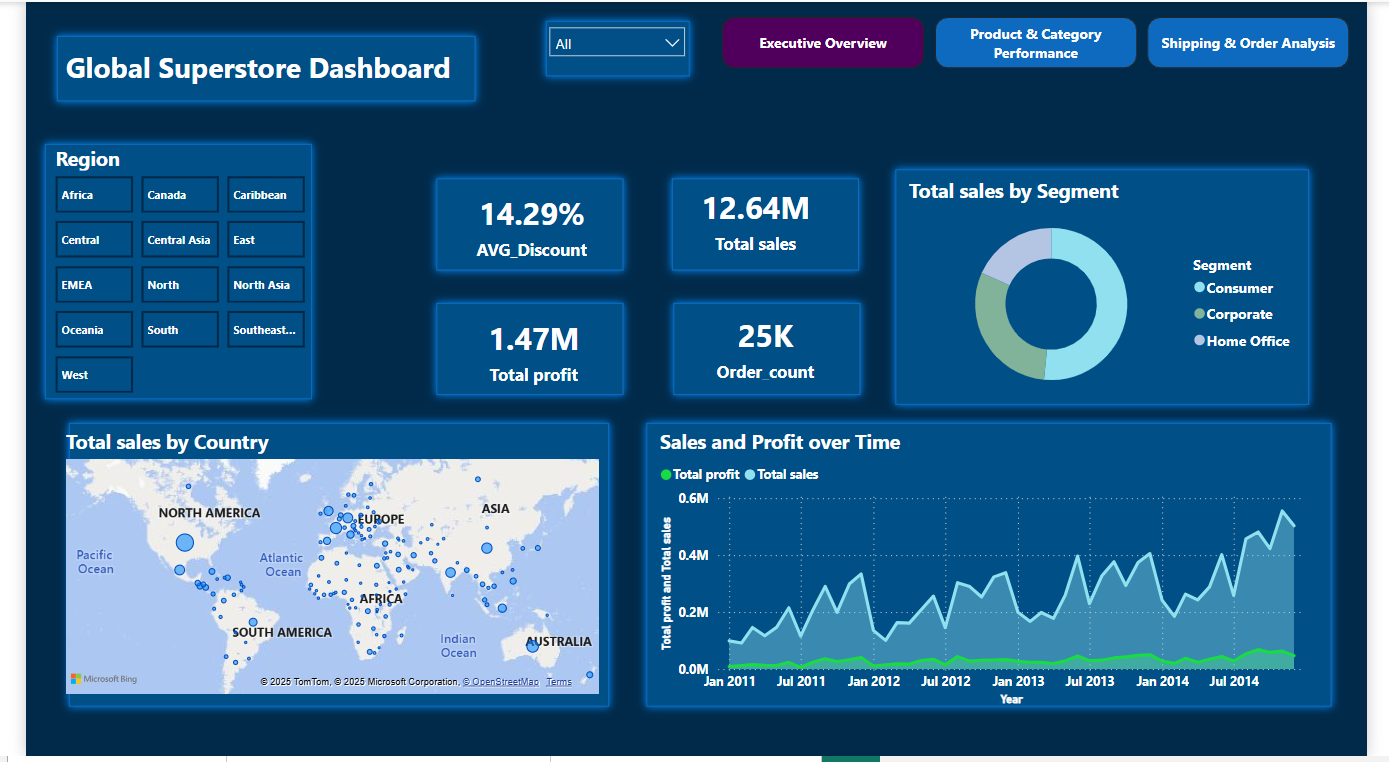

Layout of this report page (visuals, bound fields, positions):
{"tool":"powerbi","page":{"name":"Executive Overview","canvas":[1280,720],"ordinal":0},"visuals":[{"type":"shape","box":[478.8,0,173.4,89.1],"z":0},{"type":"shape","box":[11.1,14.3,435.8,98.6],"z":1000},{"type":"shape","box":[0,117.7,291.1,279.9],"z":2000},{"type":"shape","box":[373.8,268.8,214.7,124.1],"z":3000},{"type":"shape","box":[599.7,268.8,214.7,124.1],"z":4000},{"type":"shape","box":[373.8,151.1,214.7,124.1],"z":5000},{"type":"shape","box":[598.1,151.1,214.7,124.1],"z":6000},{"type":"shape","box":[812.8,141.6,431.1,260.9],"z":7000},{"type":"shape","box":[574.2,383.3,690.3,307],"z":8000},{"type":"pageNavigator","box":[665.2,13.9,599.6,49.6],"z":9000},{"type":"areaChart","title":"Sales and Profit over Time","fields":{"Category":["Global_Superstore2.Order Date.Variation.Date Hierarchy.Year","Global_Superstore2.Order Date.Variation.Date Hierarchy.Quarter","Global_Superstore2.Order Date.Variation.Date Hierarchy.Month","Global_Superstore2.Order Date.Variation.Date Hierarchy.Day"],"Y":["Global_Superstore2.Total profit","Global_Superstore2.Total sales"]},"box":[599.7,407.2,639.4,268.8],"z":10000},{"type":"shape","box":[22.3,383.3,551.9,307],"z":11000},{"type":"map","fields":{"Size":["Global_Superstore2.Total sales"],"Category":["Global_Superstore2.Country"]},"box":[33.4,407.2,518.5,259.3],"z":12000},{"type":"donutChart","fields":{"Category":["Global_Superstore2.Segment"],"Y":["Global_Superstore2.Total sales"]},"box":[838.3,167,383.3,216.3],"z":13000},{"type":"card","fields":{"Values":["Global_Superstore2.Total sales"]},"box":[615.6,167,160.7,79.5],"z":14000},{"type":"card","fields":{"Values":["Global_Superstore2.Total profit"]},"box":[402.4,286.3,163.8,90.7],"z":15000},{"type":"card","fields":{"Values":["Global_Superstore2.Order_count"]},"box":[631.5,294.3,147.9,71.6],"z":16000},{"type":"card","fields":{"Values":["Global_Superstore2.AVG_Discount"]},"box":[397.7,167,168.6,90.7],"z":17000},{"type":"advancedSlicerVisual","fields":{"Values":["Global_Superstore2.Region"]},"box":[22.3,130.4,248.1,252.9],"z":18000},{"type":"textbox","box":[33.4,38.2,396.1,50.9],"z":19000},{"type":"slicer","fields":{"Values":["Global_Superstore2.Order Date.Variation.Date Hierarchy.Year","Global_Superstore2.Order Date.Variation.Date Hierarchy.Quarter","Global_Superstore2.Order Date.Variation.Date Hierarchy.Month","Global_Superstore2.Order Date.Variation.Date Hierarchy.Day"]},"box":[489.9,14.3,149.5,49.3],"z":20000}]}

Visuals, with their boxes in screenshot pixels (x1, y1, x2, y2), scaled from the page's 1280x720 canvas onto the 1389x762 screenshot:
shape: bbox(520, 0, 708, 94)
shape: bbox(12, 15, 485, 119)
shape: bbox(0, 125, 316, 421)
shape: bbox(406, 284, 639, 416)
shape: bbox(651, 284, 884, 416)
shape: bbox(406, 160, 639, 291)
shape: bbox(649, 160, 882, 291)
shape: bbox(882, 150, 1350, 426)
shape: bbox(623, 406, 1372, 731)
pageNavigator: bbox(722, 15, 1373, 67)
"Sales and Profit over Time" areaChart: bbox(651, 431, 1345, 715)
shape: bbox(24, 406, 623, 731)
map - Global_Superstore2.Total sales x Global_Superstore2.Country: bbox(36, 431, 599, 705)
donutChart - Global_Superstore2.Segment x Global_Superstore2.Total sales: bbox(910, 177, 1326, 406)
card - Global_Superstore2.Total sales: bbox(668, 177, 842, 261)
card - Global_Superstore2.Total profit: bbox(437, 303, 614, 399)
card - Global_Superstore2.Order_count: bbox(685, 311, 846, 387)
card - Global_Superstore2.AVG_Discount: bbox(432, 177, 615, 273)
advancedSlicerVisual - Global_Superstore2.Region: bbox(24, 138, 293, 406)
textbox: bbox(36, 40, 466, 94)
slicer - Global_Superstore2.Order Date.Variation.Date Hierarchy.Year x Global_Superstore2.Order Date.Variation.Date Hierarchy.Quarter: bbox(532, 15, 694, 67)
